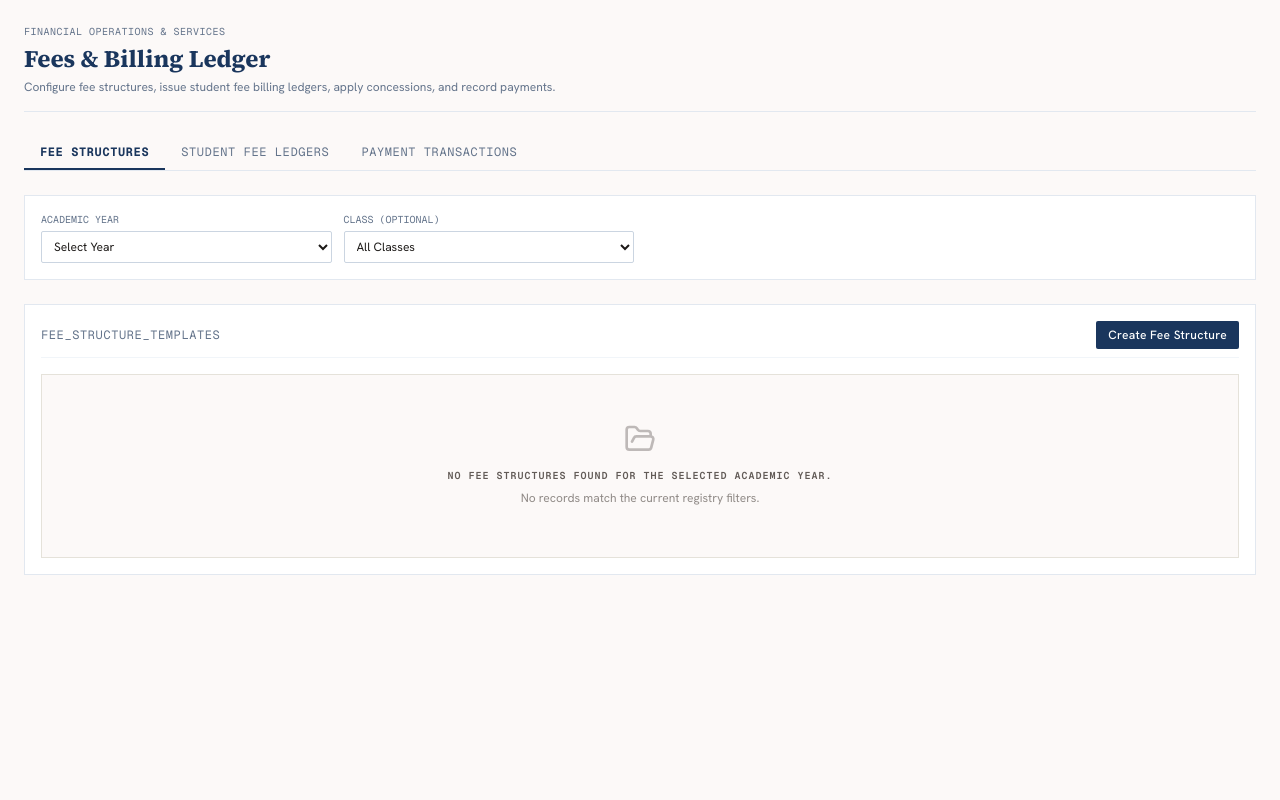
Scenario: FeesPage Component › 4. displays student fee assignments ledger with calculated financial metrics
The width and height of the screenshot is (1280, 800).
Click the button "Student Fee Ledgers" at (255, 153), box 165,136 -> 345,170
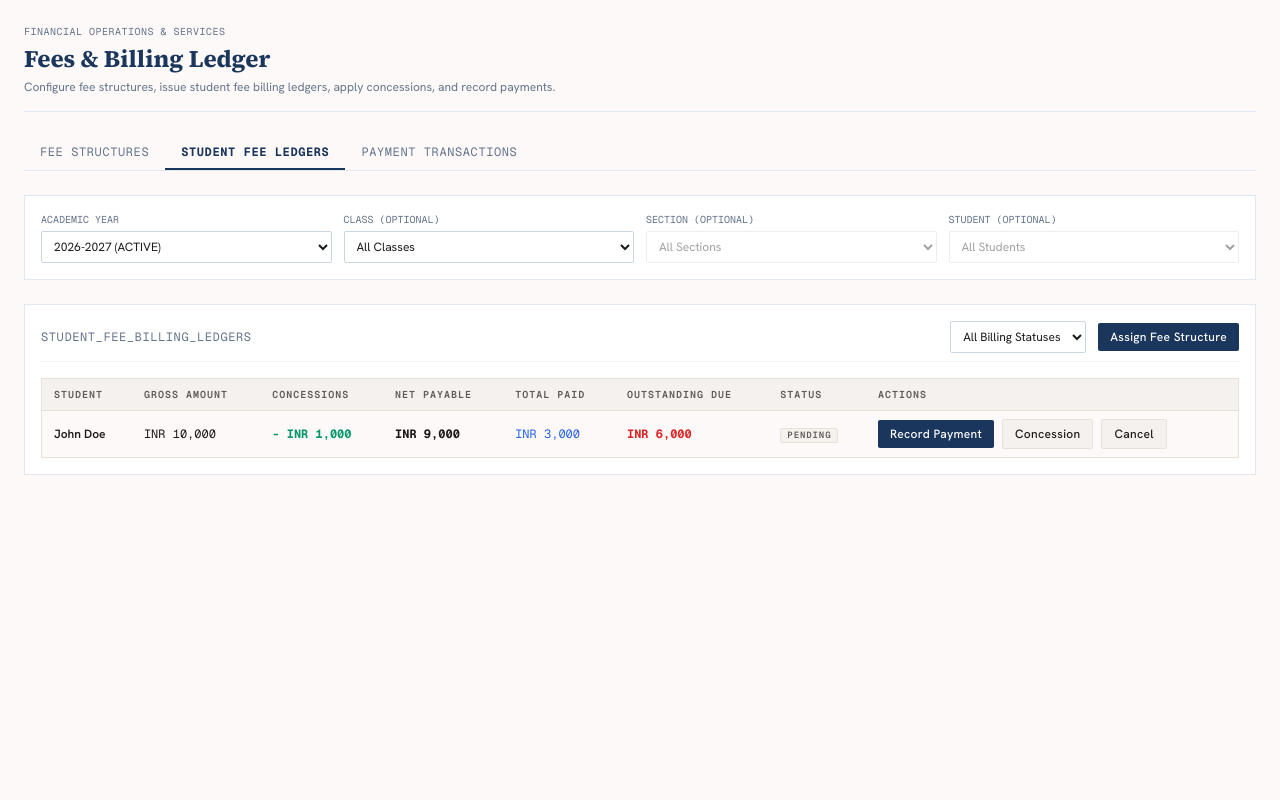
Check: the text "John Doe" is shown, box 42,410 -> 132,457
Check: the text "INR 10,000" is shown, box 144,426 -> 216,442
Check: the text "- INR 1,000" is shown, box 272,426 -> 352,442
